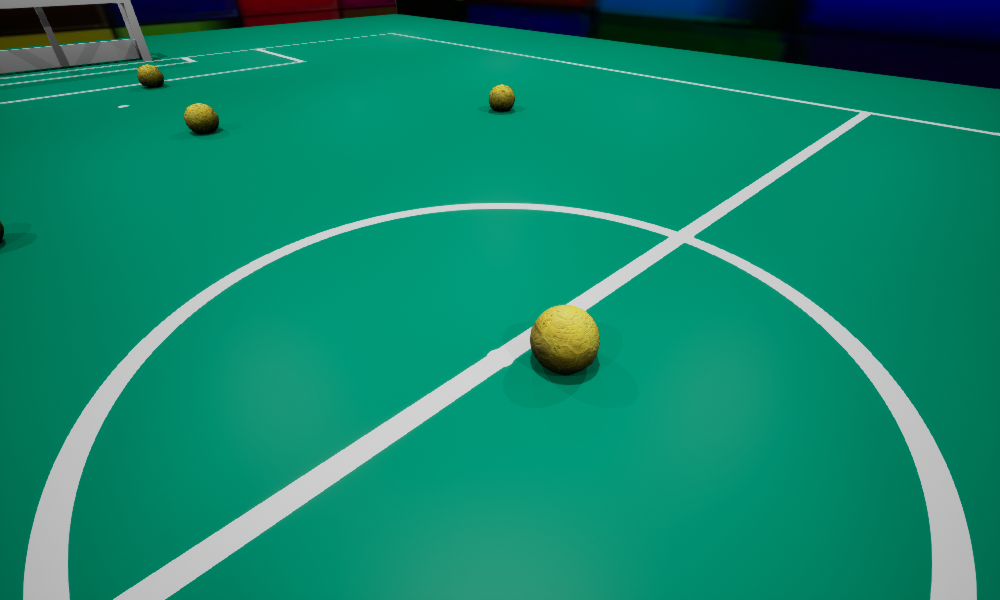b: (530, 305, 599, 373), (184, 103, 218, 133), (489, 84, 514, 111), (137, 64, 163, 87), (0, 221, 3, 240)
g: (0, 0, 151, 73)
